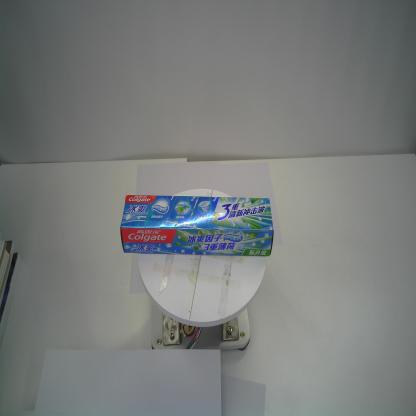Personal Hygiene: (117, 191, 275, 258)
